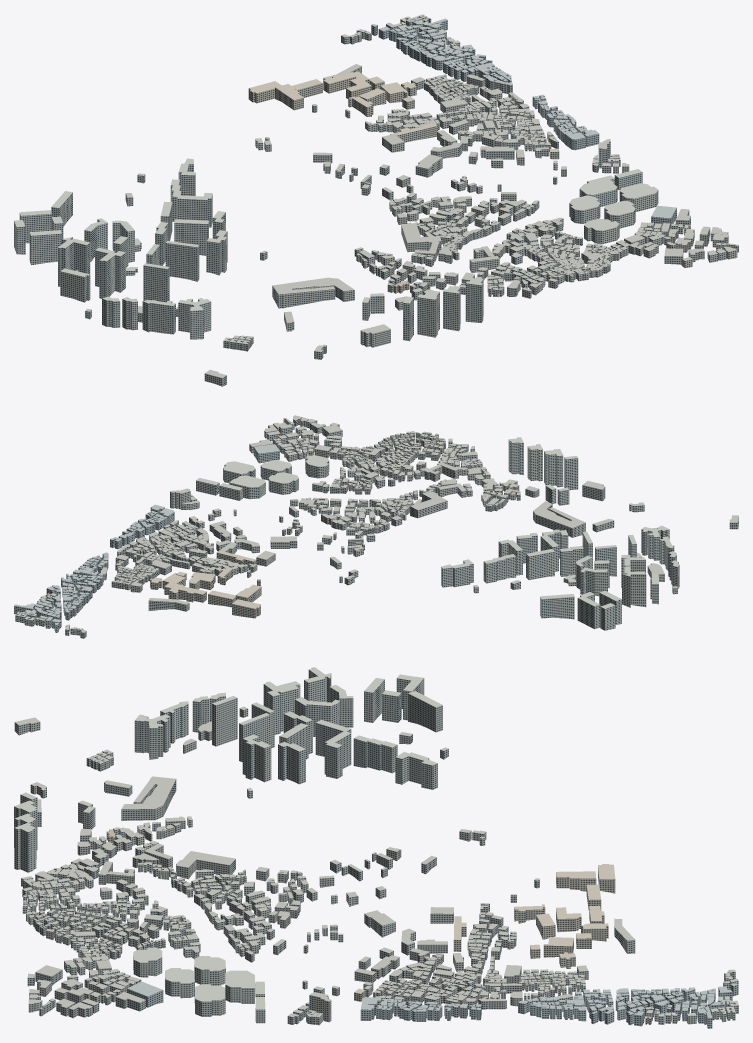
File: city_-5_-4.glb
3 renders of one model, top to bottom at view 1: azimuth 30°, elevation 25°; view 2: azimuth 150°, elevation 25°; view 3: azimuth 270°, elevation 25°, orthographic. The views are drawn at different scales.
Bounding box in the file's own units: 1025 × 103 × 1022.
Materials: 5 (5 with a texture image).
